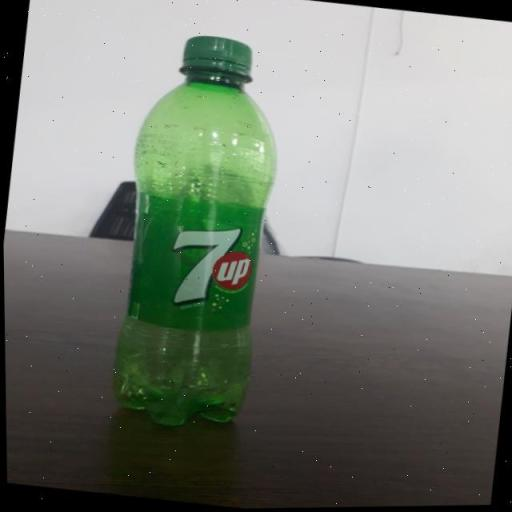plastic: (94, 26, 304, 436)
